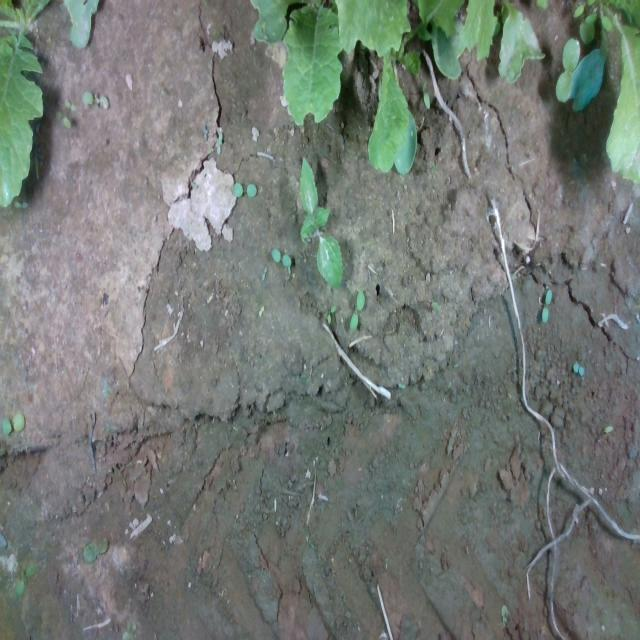weed: (298, 154, 343, 292), (348, 288, 365, 334), (1, 412, 25, 436), (82, 89, 110, 109), (230, 180, 258, 198), (54, 109, 72, 129), (541, 287, 551, 323), (326, 302, 337, 326), (213, 130, 223, 154), (62, 97, 76, 112), (572, 361, 584, 376), (260, 264, 268, 279), (202, 122, 208, 140), (258, 303, 264, 317)
